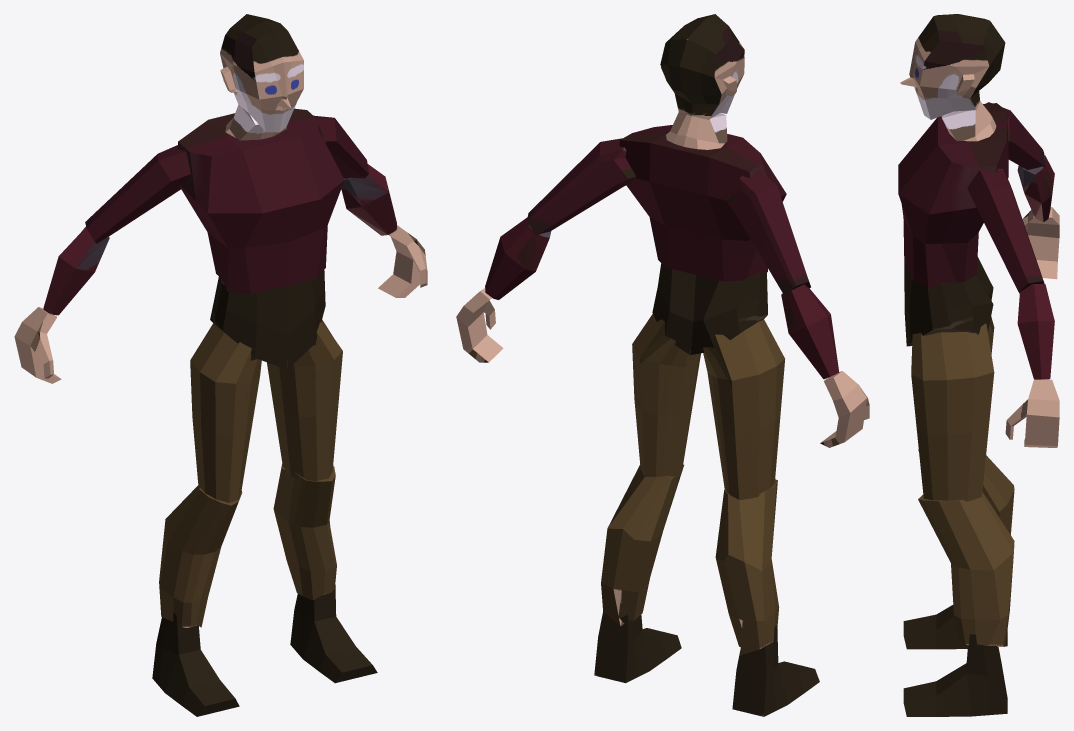
The model's file is pROTA pRUEBA3.fbx.
3 renders of one model, left to right at view 1: azimuth 30°, elevation 25°; view 2: azimuth 150°, elevation 25°; view 3: azimuth 270°, elevation 25°, orthographic.
Parts seen in each view (by area): view 1: Cube.006; view 2: Cube.006; view 3: Cube.006.
Part boxes in pixels (bbox=[...]): Cube.006: bbox=[14, 14, 427, 716]; Cube.006: bbox=[456, 14, 869, 716]; Cube.006: bbox=[898, 14, 1059, 716].
Size of the model in its own units: 113 by 181 by 40.11.
